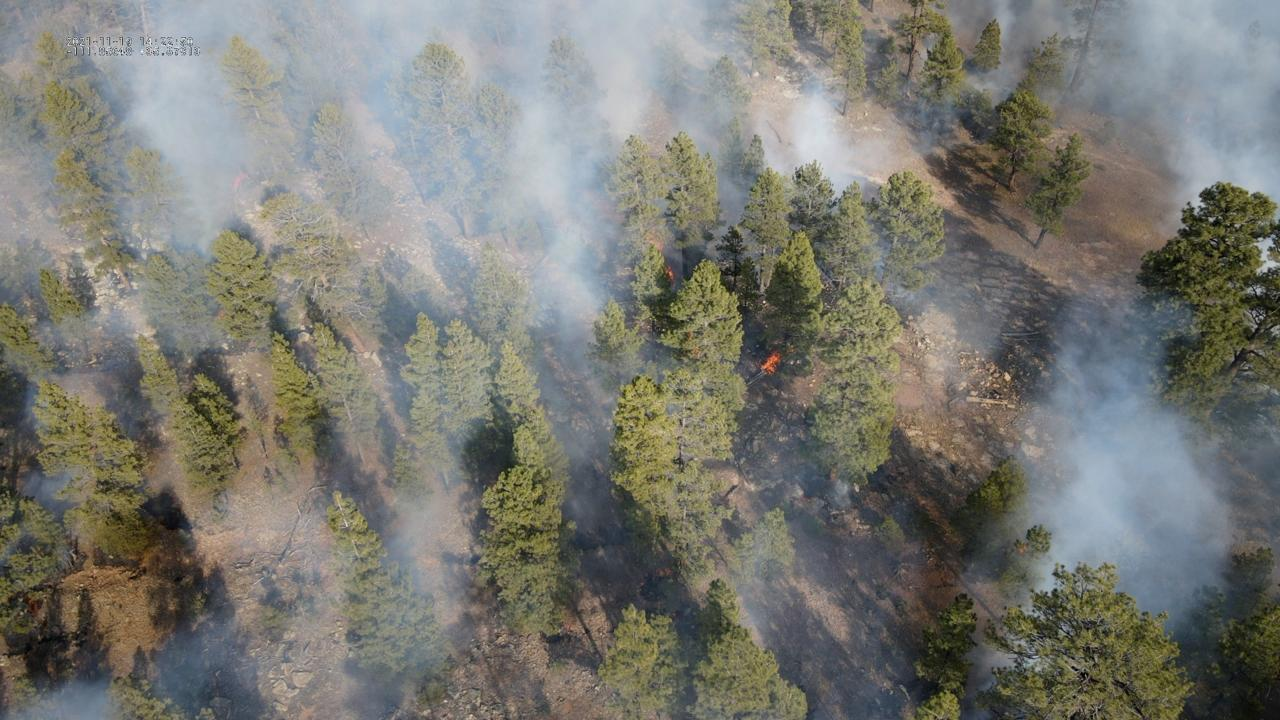fire: (757, 350, 782, 376), (229, 173, 247, 188), (663, 264, 675, 281)
smoke: (0, 0, 1280, 720)
